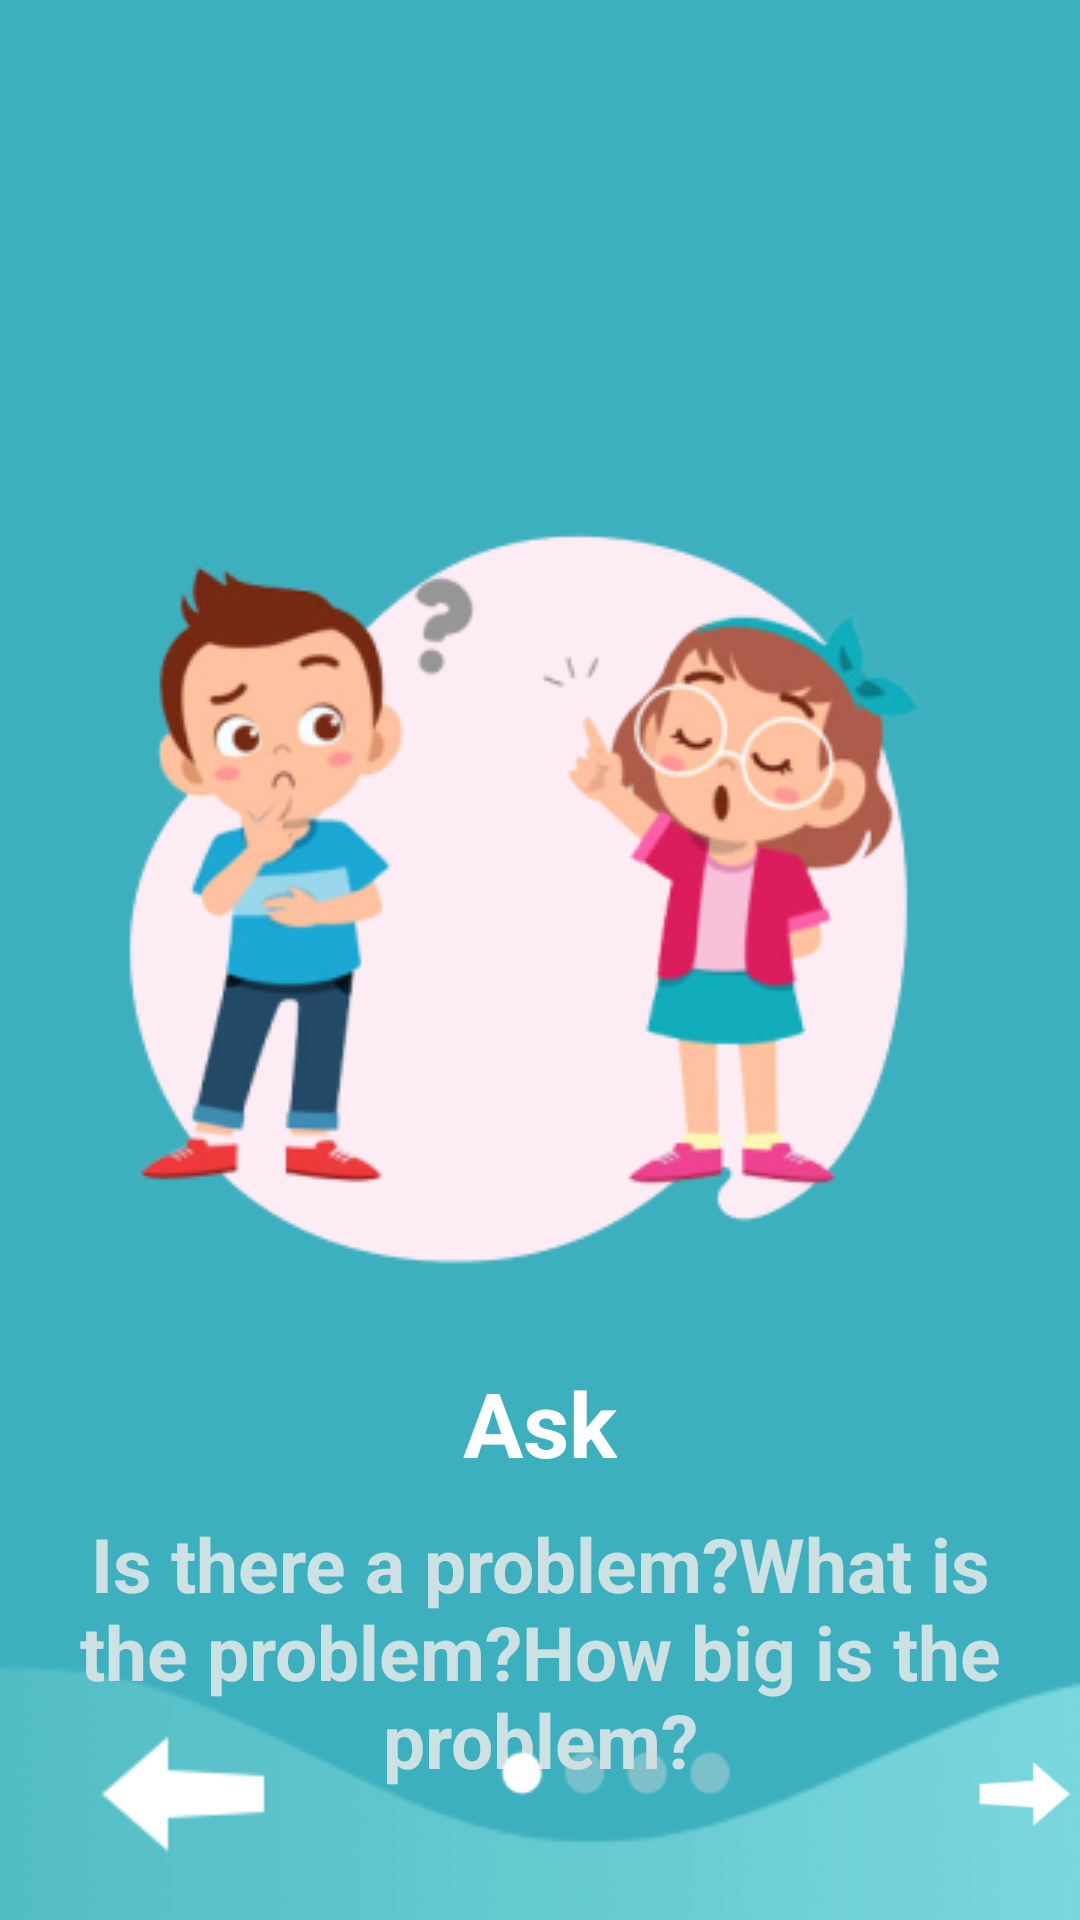

Icon bounding boxes for this 1080w x 1920h phone screenshot, format rect(x1, y1, x2, y2):
left: rect(102, 1736, 265, 1852)
right: rect(979, 1762, 1070, 1826)
